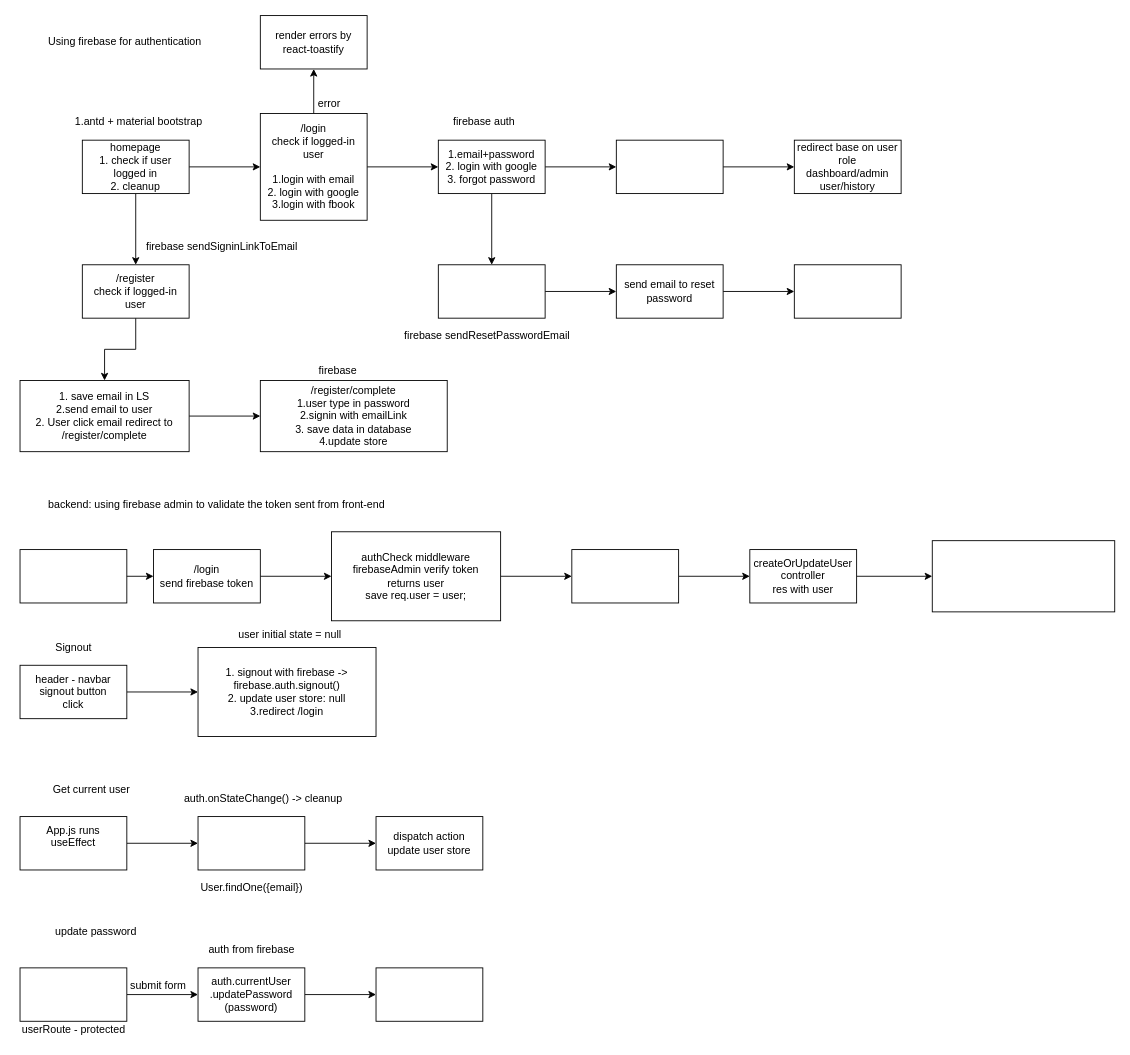
This 1130x1055 diagram has some shape labels left out. Here are the shapes that lost their labels. From the top down, the centre of each, then its label:
the point at 669,166: save user + token in redux store
the point at 491,291: /forgot/password check if logged-in user
the point at 847,291: redirect to /login
the point at 73,576: user submit form login, registerComplete
the point at 625,576: /create-or-update-user
the point at 1023,576: dispatch LOGGED_IN_USER update user store
the point at 251,843: 1.get currentUser from firebase 2. send request to /current-user
the point at 73,994: user in /user/password
the point at 429,994: 1.toast the message 2.reset form
